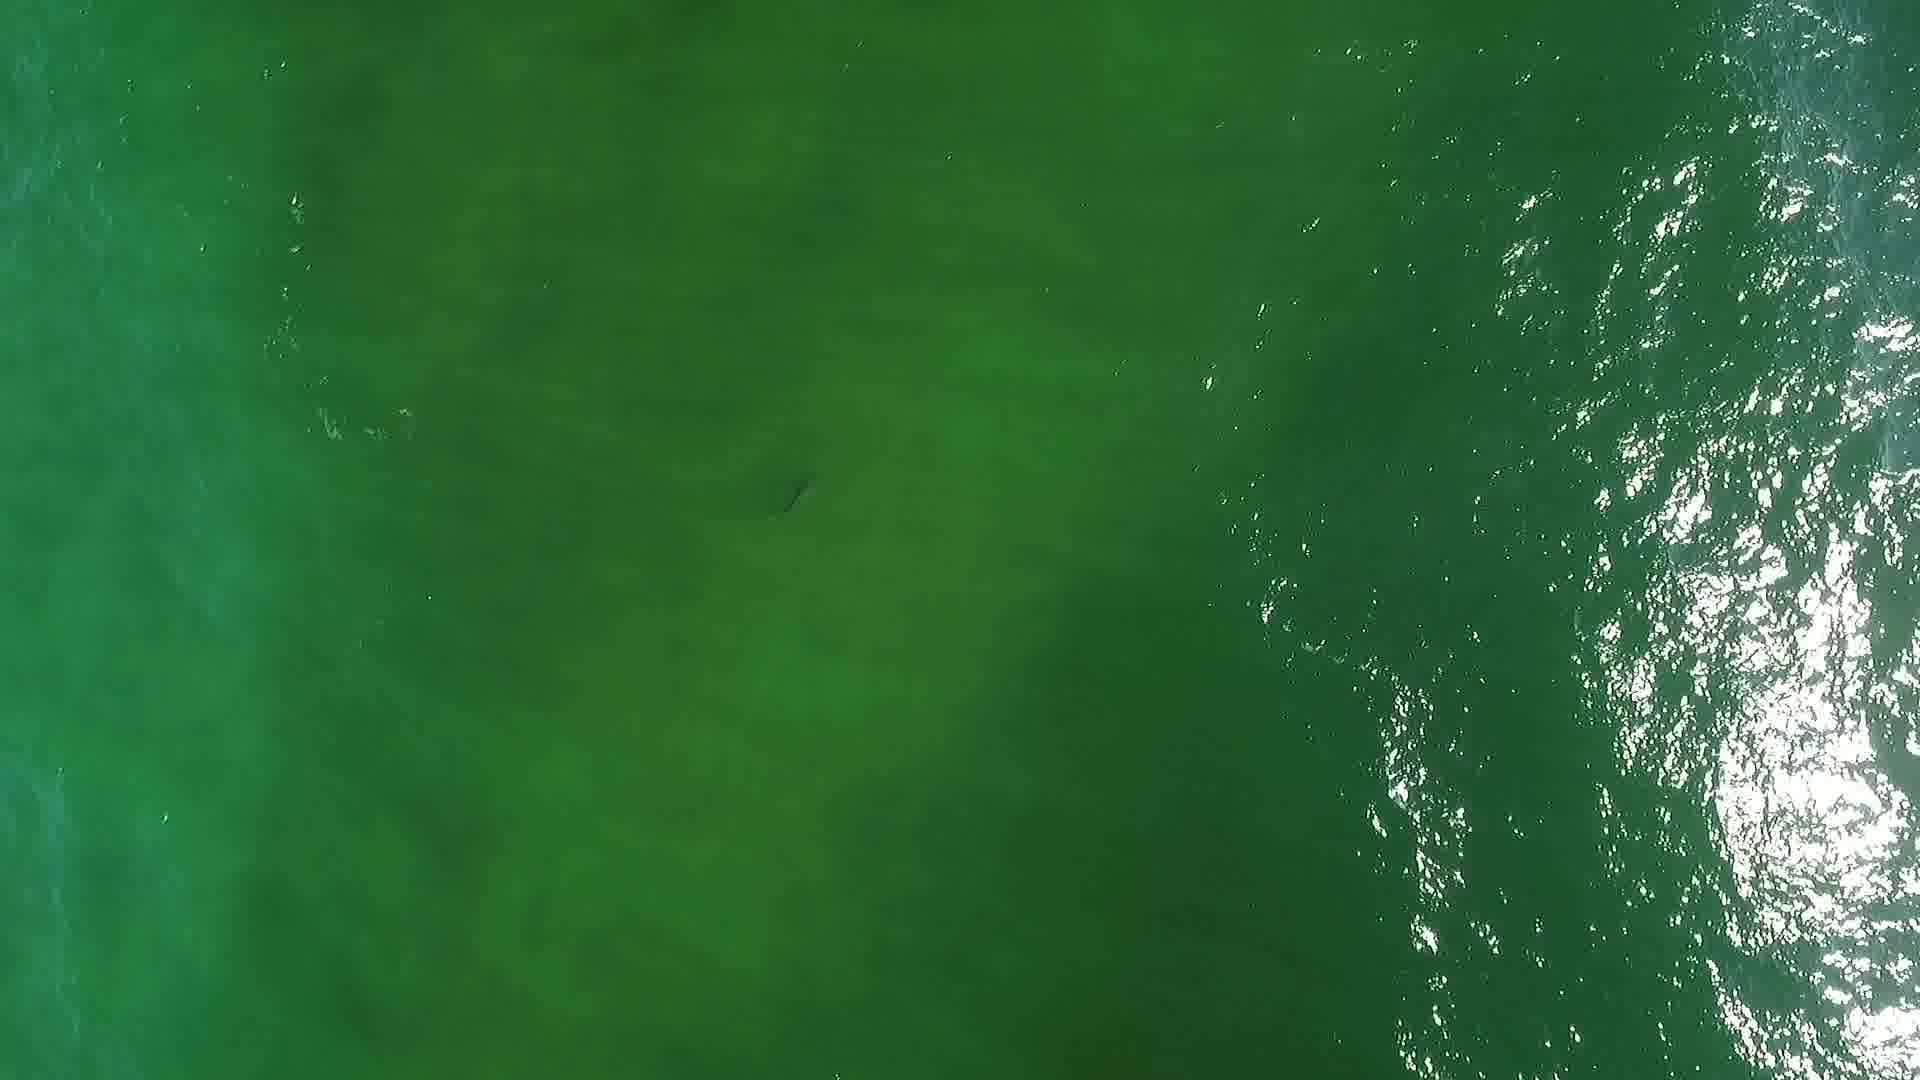shark: (769, 477, 819, 522)
